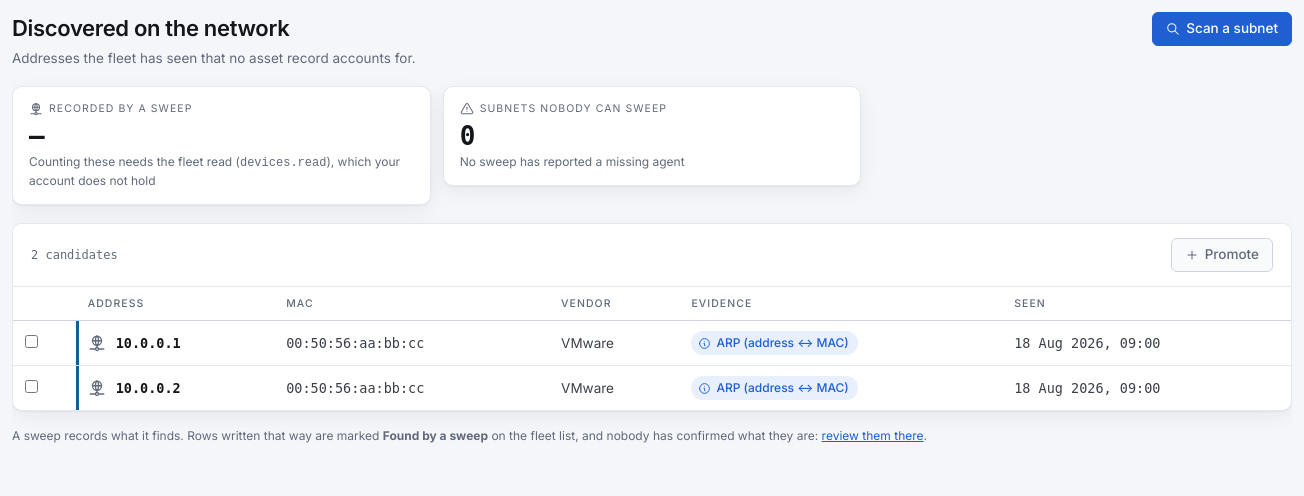
it: CandidatesPage › names every failure when every client's request fails
Click the checkbox named "10.0.0.1" at {"x": 32, "y": 342}, box [25,335,38,348]
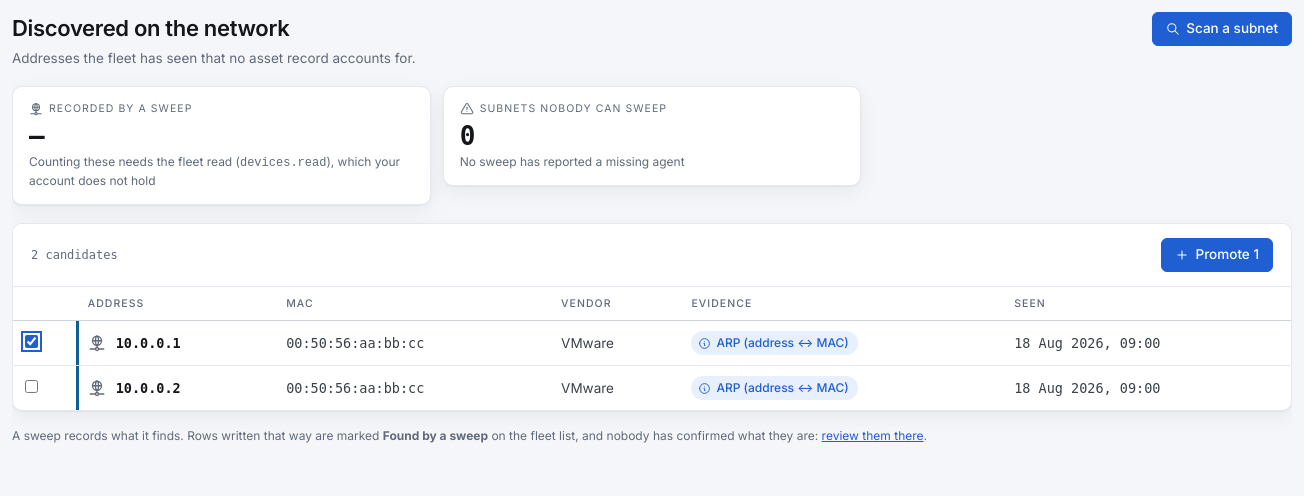
Click the checkbox named "10.0.0.2" at {"x": 32, "y": 387}, box [25,380,38,393]
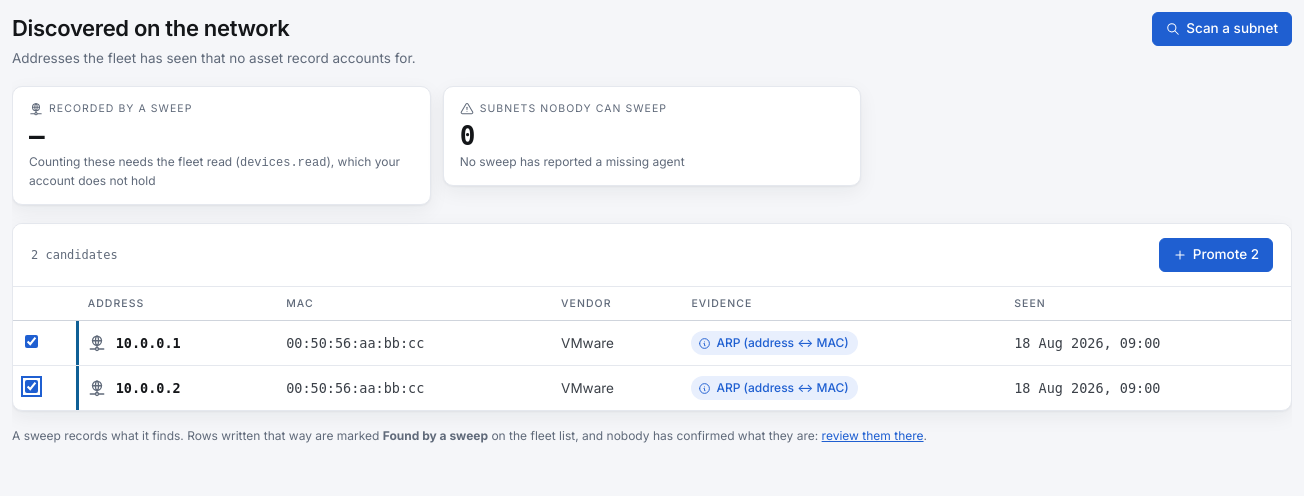
Click the button "Promote 2" at {"x": 1216, "y": 255}, box [1159,238,1273,272]
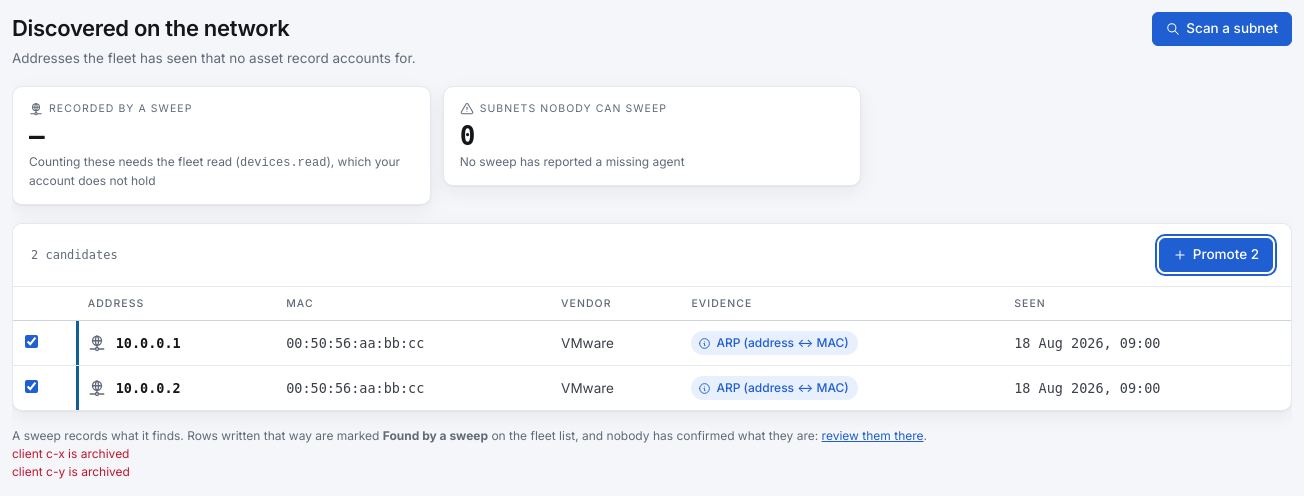
Check: the checkbox named "10.0.0.1" is checked, box [25,335,38,348]
Check: the text "client c-x is archived" is shown, box [12,446,130,461]
Check: the text "client c-y is archived" is shown, box [12,464,130,479]
